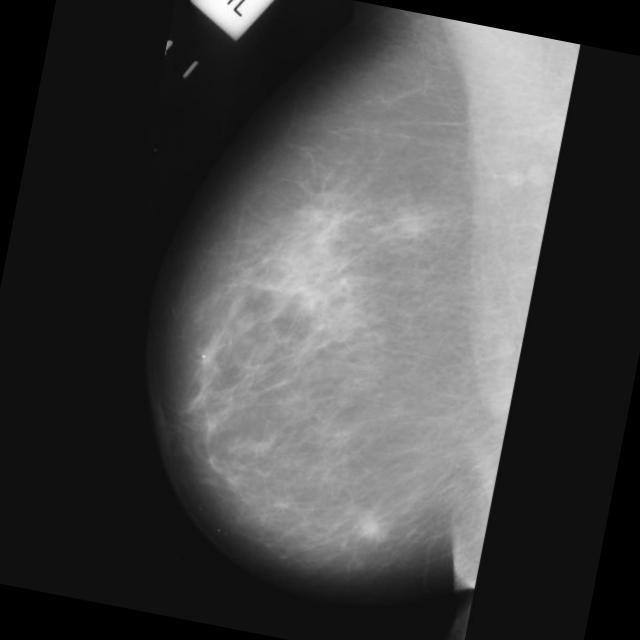SPIC: (358, 516, 384, 542)
